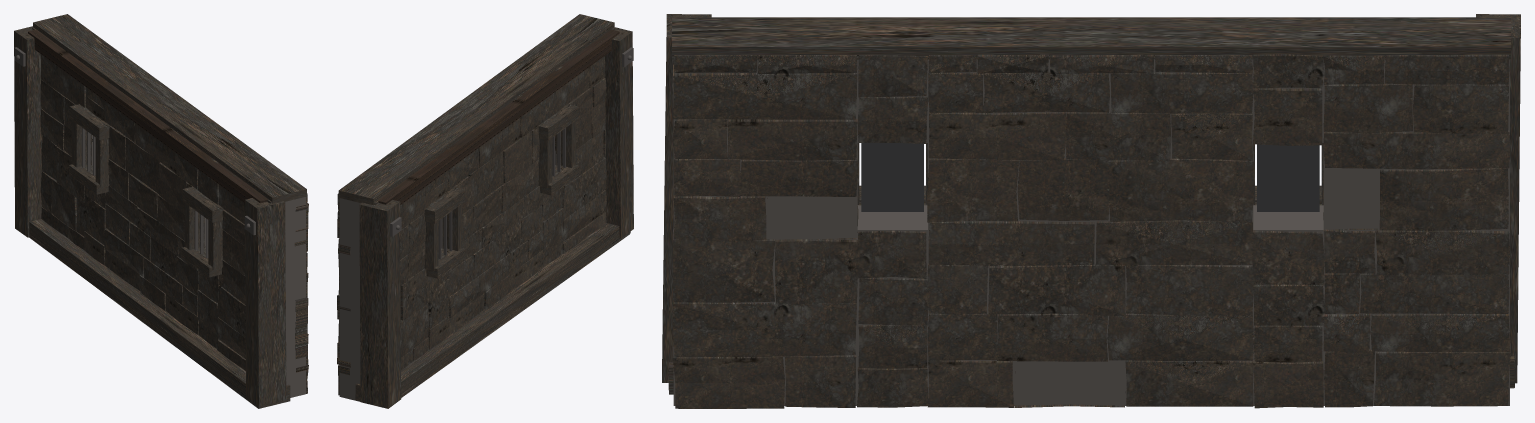
Rendered from wall_left_preview.glb.
3 renders of one model, left to right at view 1: azimuth 30°, elevation 25°; view 2: azimuth 150°, elevation 25°; view 3: azimuth 270°, elevation 25°, orthographic. The views are drawn at different scales.
Parts seen in each view (by area): view 1: ASSET_LEFT_LEFT_roof_bedding_stone, ASSET_LEFT_LEFT_load_corner_1, ASSET_LEFT_LEFT_continuous_plinth, ASSET_LEFT_LEFT_load_corner_-1, ASSET_LEFT_LEFT_wall_plate, ASSET_LEFT_LEFT_solid_4_structural, ASSET_LEFT_LEFT_solid_2_stone_5_1, ASSET_LEFT_LEFT_solid_0_stone_5_0, ASSET_LEFT_LEFT_solid_4_stone_2_0, ASSET_LEFT_LEFT_solid_0_stone_1_1, ASSET_LEFT_LEFT_solid_2_stone_5_2, ASSET_LEFT_LEFT_solid_2_stone_3_1 (+47 smaller); view 2: ASSET_LEFT_LEFT_roof_bedding_stone, ASSET_LEFT_LEFT_load_corner_-1, ASSET_LEFT_LEFT_continuous_plinth, ASSET_LEFT_LEFT_load_corner_1, ASSET_LEFT_LEFT_wall_plate, ASSET_LEFT_LEFT_solid_0_structural, ASSET_LEFT_LEFT_solid_4_stone_2_0, ASSET_LEFT_LEFT_solid_2_stone_5_1, ASSET_LEFT_LEFT_solid_0_stone_2_1, ASSET_LEFT_LEFT_solid_2_stone_5_2, ASSET_LEFT_LEFT_solid_2_stone_4_2, ASSET_LEFT_LEFT_solid_2_stone_3_1 (+48 smaller); view 3: ASSET_LEFT_LEFT_roof_bedding_stone, ASSET_LEFT_LEFT_solid_4_InteriorPBR_1_0, ASSET_LEFT_LEFT_solid_2_InteriorPBR_4_0, ASSET_LEFT_LEFT_solid_4_InteriorPBR_6_0, ASSET_LEFT_LEFT_solid_0_InteriorPBR_4_0, ASSET_LEFT_LEFT_solid_2_InteriorPBR_3_1, ASSET_LEFT_LEFT_solid_0_InteriorPBR_0_0, ASSET_LEFT_LEFT_solid_2_InteriorPBR_3_0, ASSET_LEFT_LEFT_solid_2_structural, ASSET_LEFT_LEFT_solid_0_InteriorPBR_5_0, ASSET_LEFT_LEFT_solid_2_InteriorPBR_2_1, ASSET_LEFT_LEFT_solid_2_InteriorPBR_1_0 (+60 smaller).
Part boxes in pixels (x1,y1,x2,y2): ASSET_LEFT_LEFT_roof_bedding_stone: (33,14,306,203); ASSET_LEFT_LEFT_load_corner_1: (245,198,286,406); ASSET_LEFT_LEFT_continuous_plinth: (29,219,290,408); ASSET_LEFT_LEFT_load_corner_-1: (14,26,42,237); ASSET_LEFT_LEFT_wall_plate: (28,29,268,203); ASSET_LEFT_LEFT_solid_4_structural: (285,197,305,397); ASSET_LEFT_LEFT_solid_2_stone_5_1: (125,137,160,193); ASSET_LEFT_LEFT_solid_0_stone_5_0: (40,54,85,107); ASSET_LEFT_LEFT_solid_4_stone_2_0: (217,285,245,337); ASSET_LEFT_LEFT_solid_0_stone_1_1: (51,179,76,231); ASSET_LEFT_LEFT_solid_2_stone_5_2: (159,162,187,214); ASSET_LEFT_LEFT_solid_2_stone_3_1: (137,207,178,256); ASSET_LEFT_LEFT_roof_bedding_stone: (338,14,614,205); ASSET_LEFT_LEFT_load_corner_-1: (359,200,401,408); ASSET_LEFT_LEFT_continuous_plinth: (355,223,630,401); ASSET_LEFT_LEFT_load_corner_1: (604,27,633,238); ASSET_LEFT_LEFT_wall_plate: (377,29,619,204); ASSET_LEFT_LEFT_solid_0_structural: (339,198,360,401); ASSET_LEFT_LEFT_solid_4_stone_2_0: (562,163,597,219); ASSET_LEFT_LEFT_solid_2_stone_5_1: (468,151,503,208); ASSET_LEFT_LEFT_solid_0_stone_2_1: (400,268,430,320); ASSET_LEFT_LEFT_solid_2_stone_5_2: (503,130,532,183); ASSET_LEFT_LEFT_solid_2_stone_4_2: (501,160,538,212); ASSET_LEFT_LEFT_solid_2_stone_3_1: (482,197,524,247); ASSET_LEFT_LEFT_roof_bedding_stone: (672,17,1511,59); ASSET_LEFT_LEFT_solid_4_InteriorPBR_1_0: (672,302,856,357); ASSET_LEFT_LEFT_solid_2_InteriorPBR_4_0: (1108,151,1254,222); ASSET_LEFT_LEFT_solid_4_InteriorPBR_6_0: (673,64,857,119); ASSET_LEFT_LEFT_solid_0_InteriorPBR_4_0: (1379,168,1508,230); ASSET_LEFT_LEFT_solid_2_InteriorPBR_3_1: (928,221,1094,266); ASSET_LEFT_LEFT_solid_0_InteriorPBR_0_0: (1374,343,1510,406); ASSET_LEFT_LEFT_solid_2_InteriorPBR_3_0: (1096,220,1252,265); ASSET_LEFT_LEFT_solid_2_structural: (928,59,1253,405); ASSET_LEFT_LEFT_solid_0_InteriorPBR_5_0: (1323,131,1510,169); ASSET_LEFT_LEFT_solid_2_InteriorPBR_2_1: (988,263,1125,316); ASSET_LEFT_LEFT_solid_2_InteriorPBR_1_0: (1107,313,1253,361).
Size of the model in its own units: 0.9854 by 3.3 by 7.07.
Materials: 7 (4 with a texture image).
